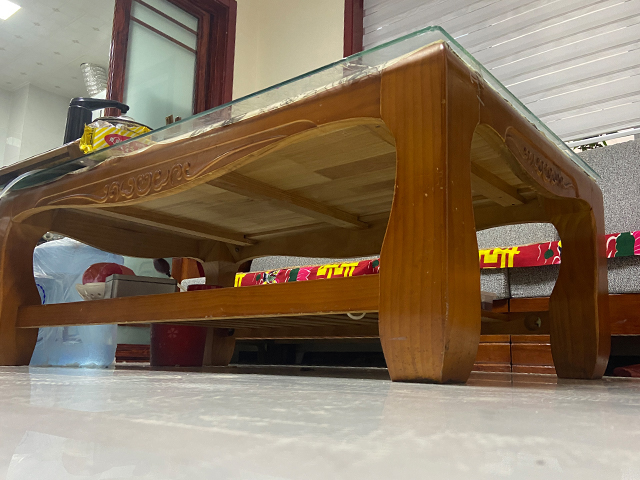table: (1, 24, 611, 385)
